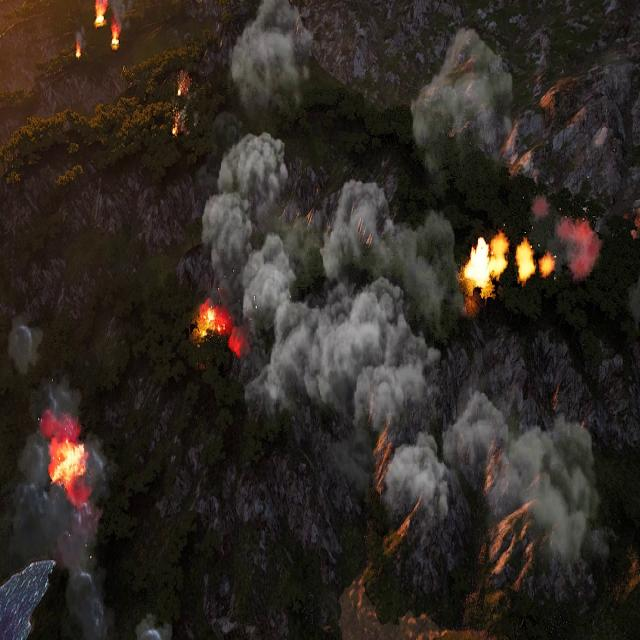fire: (49, 426, 89, 501), (465, 237, 512, 298), (195, 303, 238, 354), (514, 243, 553, 285), (95, 3, 120, 51), (515, 244, 537, 280), (175, 88, 183, 100), (173, 126, 178, 138)
smoke: (203, 138, 626, 571), (0, 308, 117, 635), (410, 21, 512, 180), (227, 0, 312, 109), (560, 203, 606, 278), (74, 23, 86, 54)
